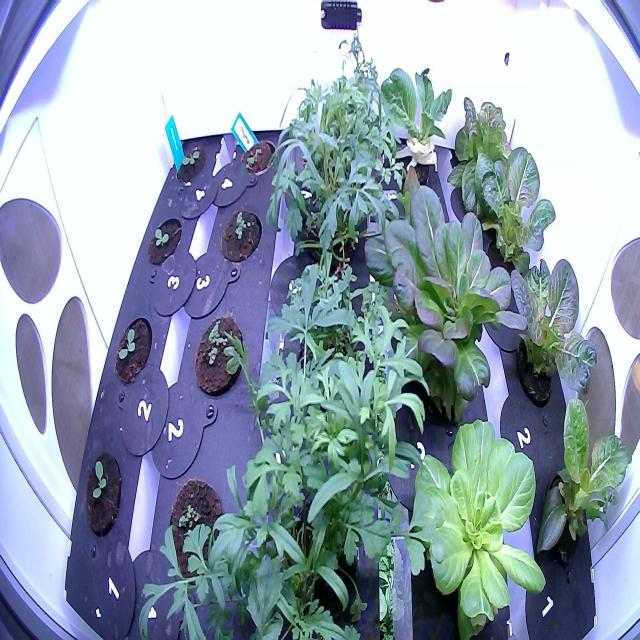germination: (162, 465, 225, 588), (189, 312, 245, 400), (79, 447, 129, 543), (112, 305, 155, 395), (217, 205, 263, 269), (234, 128, 280, 184), (144, 211, 184, 272), (172, 135, 214, 190)
young: (348, 166, 536, 427), (401, 408, 553, 638), (490, 222, 602, 414), (464, 129, 566, 273), (446, 82, 532, 200)
